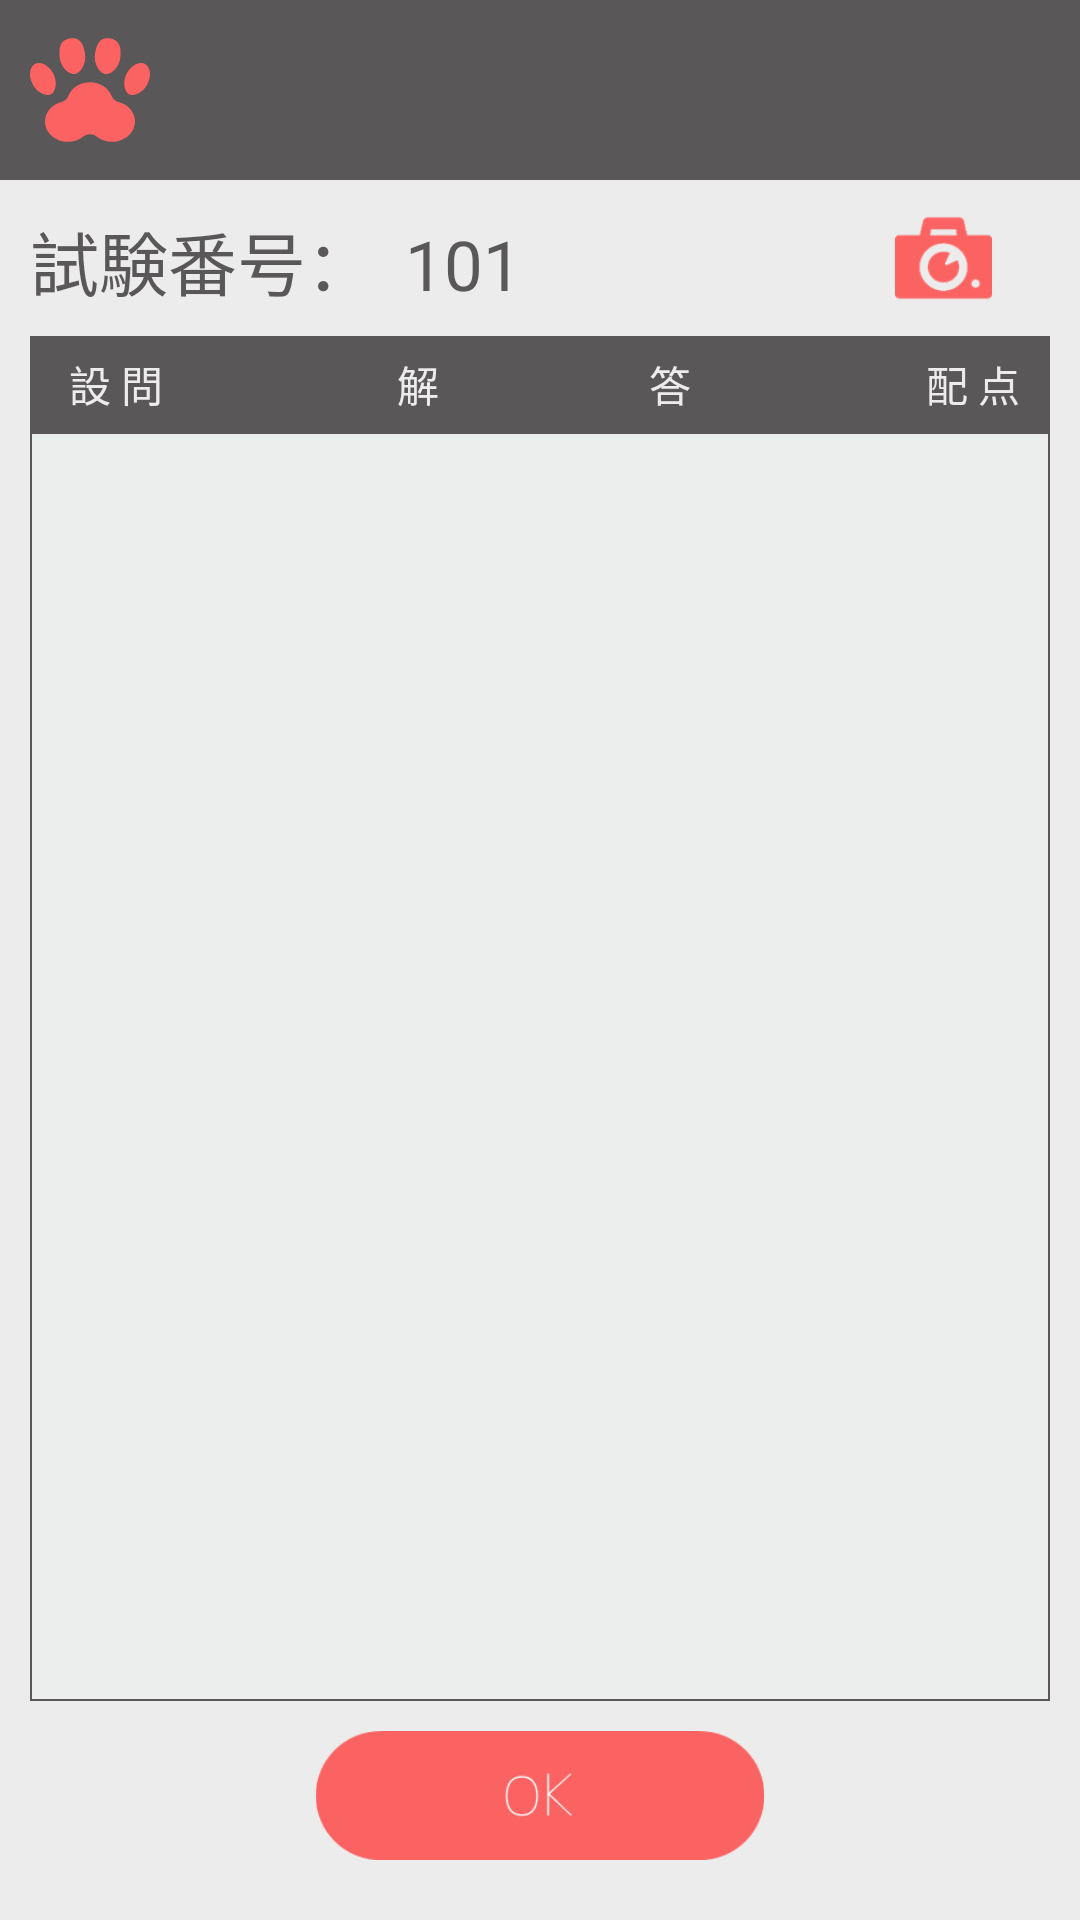

Named icons in this screenshot (1080×1920) and their centers, (x,y):
camera: (943,258)
